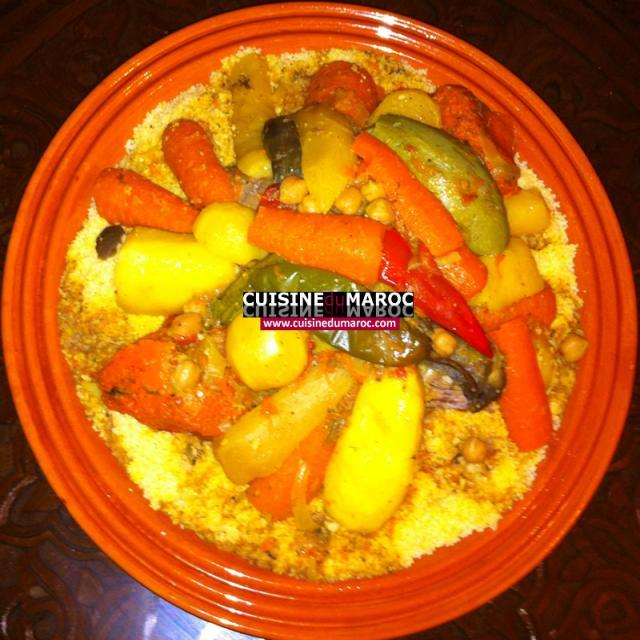Couscous: (54, 46, 584, 574)
